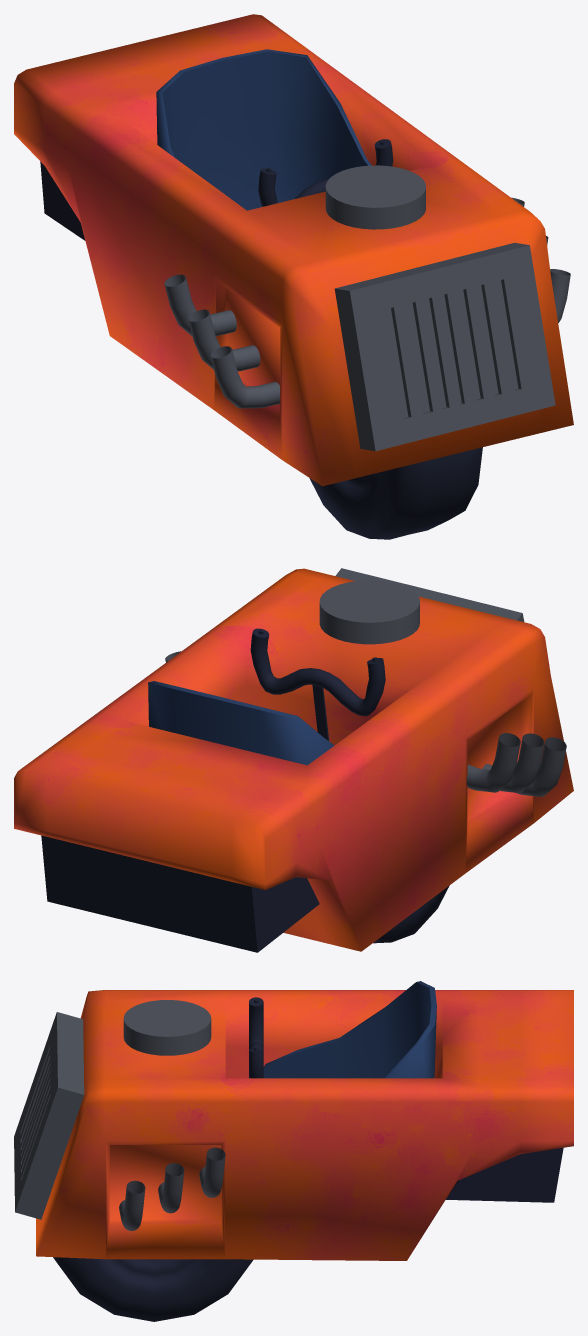
File: pod_back.fbx
The picture shows the model from 3 angles, top to bottom: view 1: azimuth 30°, elevation 25°; view 2: azimuth 150°, elevation 25°; view 3: azimuth 270°, elevation 25°; orthographic projection. The views are drawn at different scales.
Visible parts, largest first — view 1: Cube, Cylinder.002; view 2: Cube, Cylinder.002; view 3: Cube, Cylinder.002.
Part boxes in pixels (left/top/right/bottom): Cube: left=14, top=14, right=573, bottom=486; Cylinder.002: left=309, top=447, right=482, bottom=539; Cube: left=14, top=568, right=573, bottom=952; Cylinder.002: left=373, top=885, right=449, bottom=943; Cube: left=14, top=981, right=573, bottom=1260; Cylinder.002: left=53, top=1257, right=253, bottom=1321.
Bounding box in the file's own units: 115 × 109 × 180.
